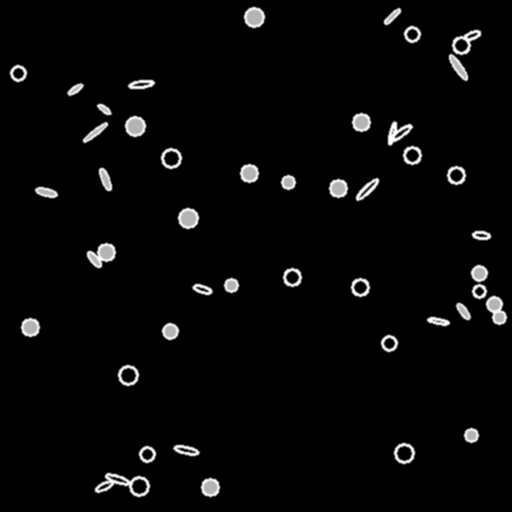pseudomonas: (447, 53, 469, 81), (355, 177, 379, 201), (387, 122, 413, 144), (82, 121, 108, 143), (105, 472, 129, 486), (98, 167, 112, 191), (85, 250, 103, 268), (383, 7, 401, 25), (173, 444, 199, 456), (455, 302, 471, 320), (94, 479, 114, 493), (35, 186, 57, 198), (128, 79, 154, 89), (192, 283, 212, 295), (387, 121, 397, 145), (463, 29, 481, 41), (96, 103, 112, 115), (67, 83, 83, 95), (428, 317, 448, 325), (473, 231, 489, 239)
synechocystis: (126, 117, 144, 135), (179, 209, 197, 227), (395, 444, 413, 462), (162, 149, 180, 167), (130, 477, 148, 495), (245, 8, 263, 26), (119, 366, 137, 384), (448, 167, 464, 183), (241, 165, 257, 181), (22, 319, 38, 335), (98, 244, 114, 260), (404, 147, 420, 163), (453, 37, 469, 53), (330, 180, 346, 196), (284, 269, 300, 285), (352, 279, 368, 295), (202, 479, 218, 495), (353, 114, 369, 130), (11, 66, 25, 80), (140, 447, 154, 461), (487, 297, 501, 311), (382, 336, 396, 350), (472, 266, 486, 280), (405, 27, 419, 41), (163, 324, 177, 338), (473, 285, 485, 297), (282, 176, 294, 188), (225, 279, 237, 291), (493, 311, 505, 323), (465, 429, 477, 441)
